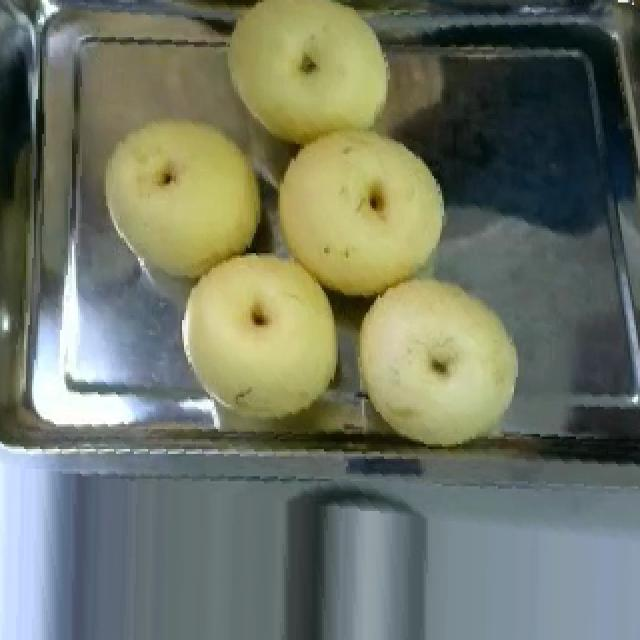Fruit: (342, 263, 534, 456), (266, 117, 458, 310), (170, 238, 354, 432), (96, 101, 278, 288), (212, 0, 402, 161), (260, 483, 444, 640)
